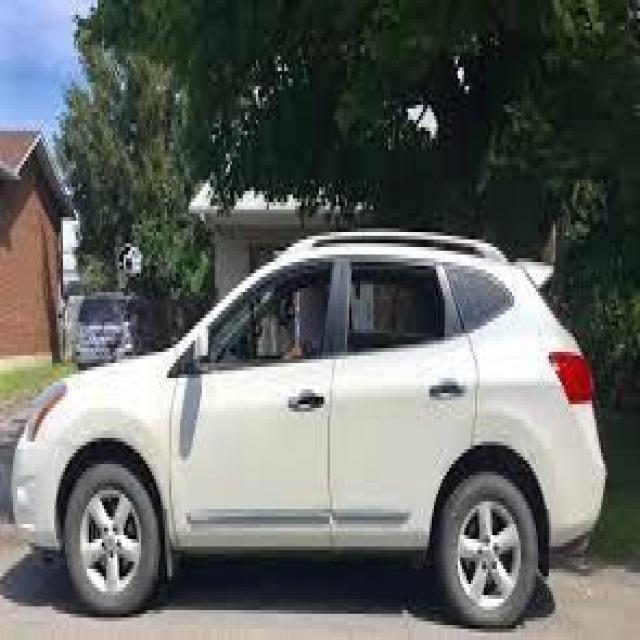back_left_door: (329, 253, 479, 547)
back_left_light: (547, 352, 592, 408)
front_left_door: (171, 253, 345, 552)
left_mirror: (192, 328, 212, 378)
wheel: (66, 465, 538, 630)
